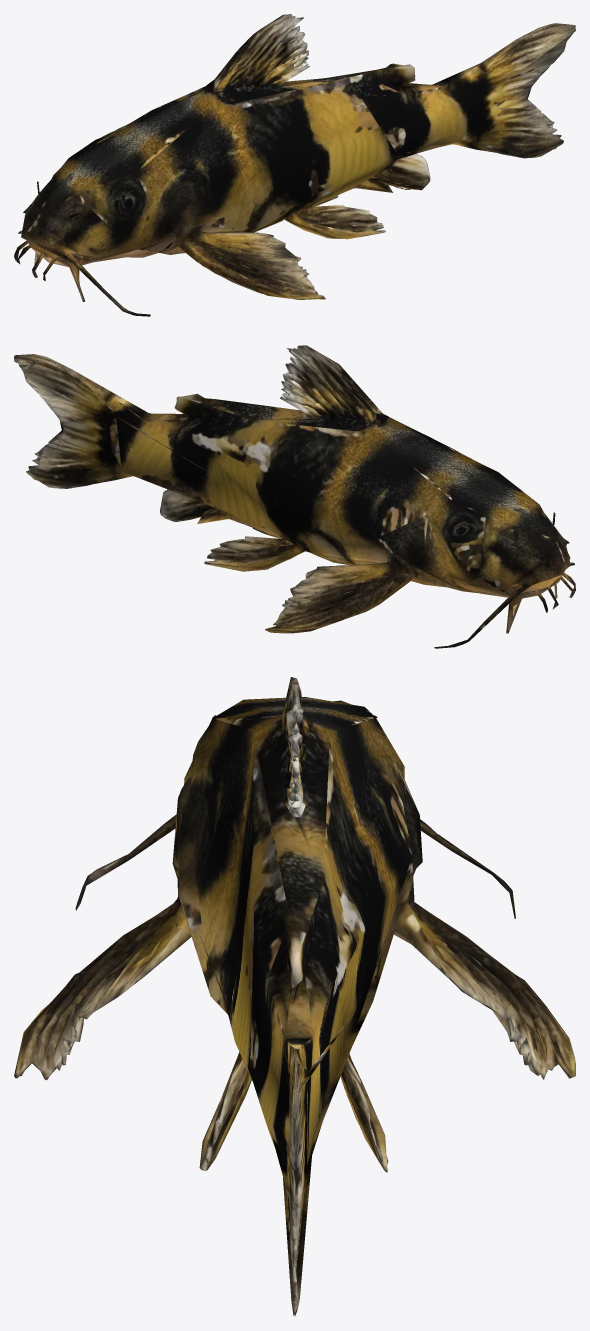
Rendered from loach.glb.
The picture shows the model from 3 angles, top to bottom: view 1: azimuth 30°, elevation 25°; view 2: azimuth 150°, elevation 25°; view 3: azimuth 270°, elevation 25°; orthographic projection. The views are drawn at different scales.
Visible parts, largest first — view 1: geometry_0; view 2: geometry_0; view 3: geometry_0.
Part boxes in pixels (<box>): geometry_0: <box>14,14,575,316</box>; geometry_0: <box>14,345,575,648</box>; geometry_0: <box>14,677,575,1316</box>.
Size of the model in its own units: 1 by 0.3881 by 0.4642.
Materials: 1 (1 with a texture image).
